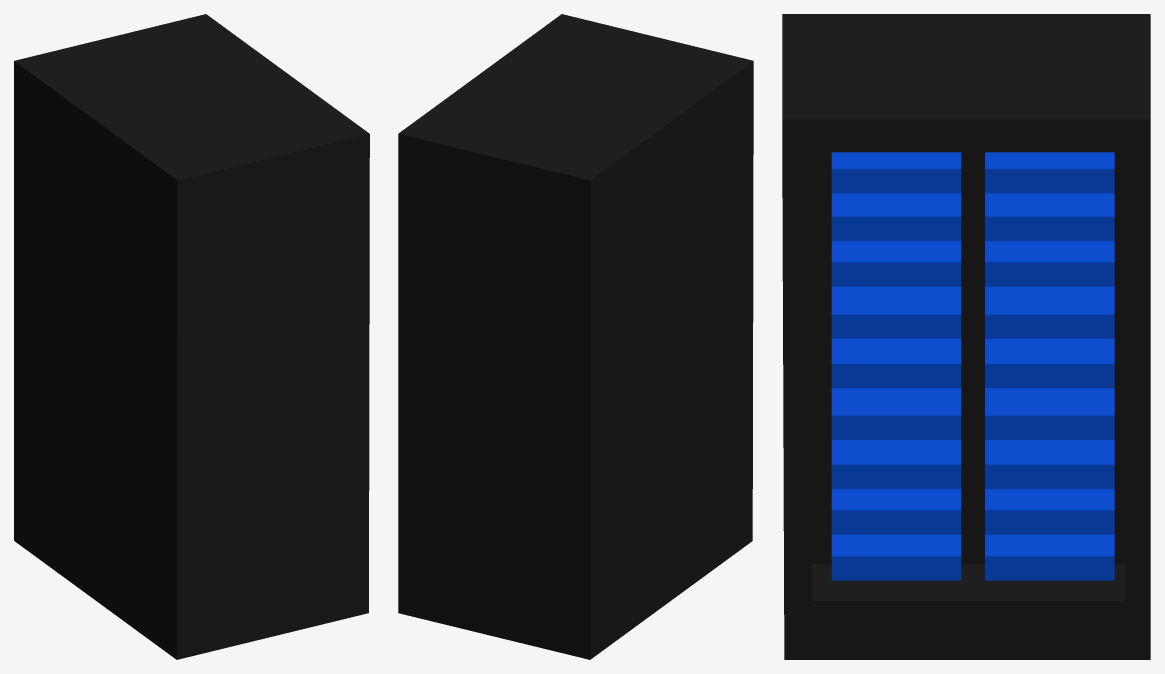
The model's file is RegularServer.fbx.
3 renders of one model, left to right at view 1: azimuth 30°, elevation 25°; view 2: azimuth 150°, elevation 25°; view 3: azimuth 270°, elevation 25°, orthographic. The views are drawn at different scales.
Visible parts, largest first — view 1: pasted__pCube29; view 2: pasted__pCube29; view 3: pasted__pCube29.
Part boxes in pixels (x1=…): pasted__pCube29: x1=14, y1=14, x2=369, y2=659; pasted__pCube29: x1=398, y1=14, x2=753, y2=659; pasted__pCube29: x1=782, y1=14, x2=1150, y2=659.
Bounding box in the file's own units: 4.82 × 11.51 × 7.12.
